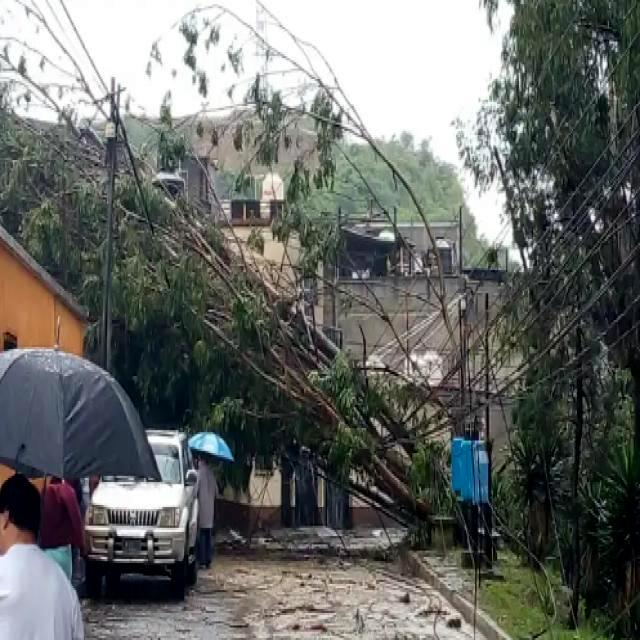Broken Pole: (282, 438, 424, 531)
